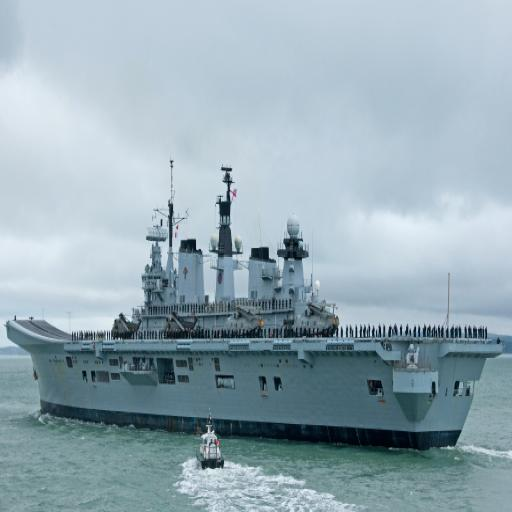Portanaves: (4, 149, 512, 439)
